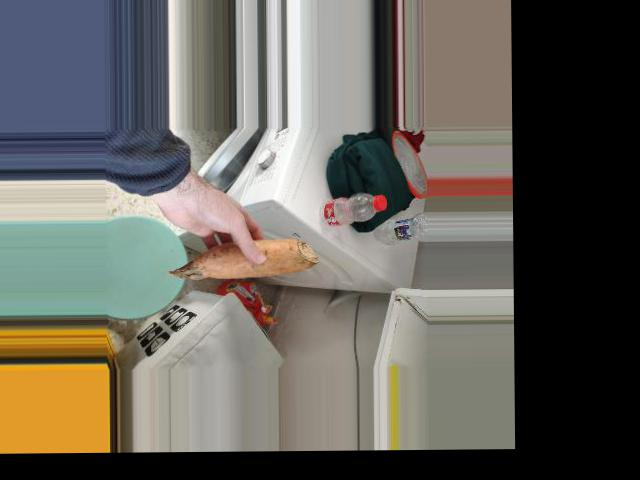sweet_potato: (172, 230, 324, 289)
